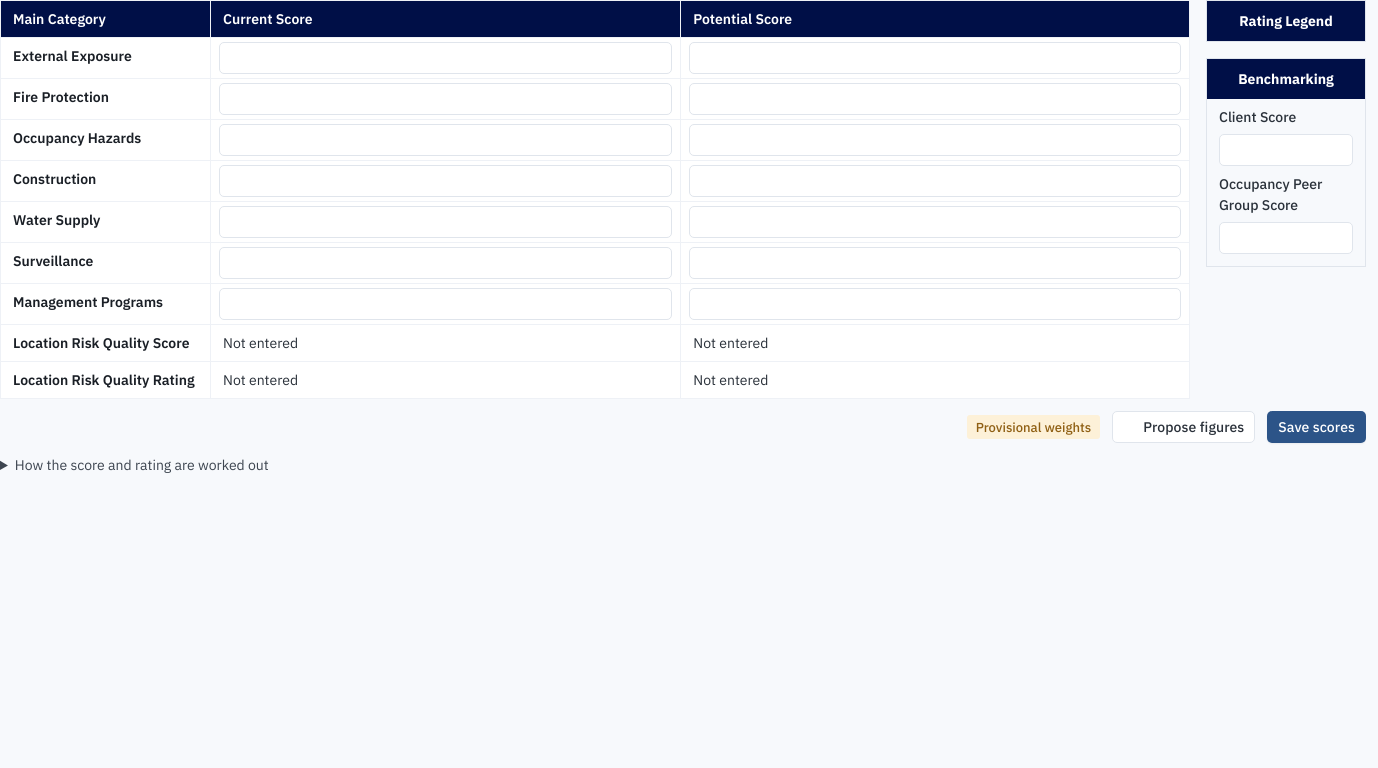
it: Section 4 proposed scores › proposes on request and pre-fills the scores as AI proposals, computing nothing (AC13)
Click the button "Propose figures": (1184, 427) [1112, 411, 1255, 443]
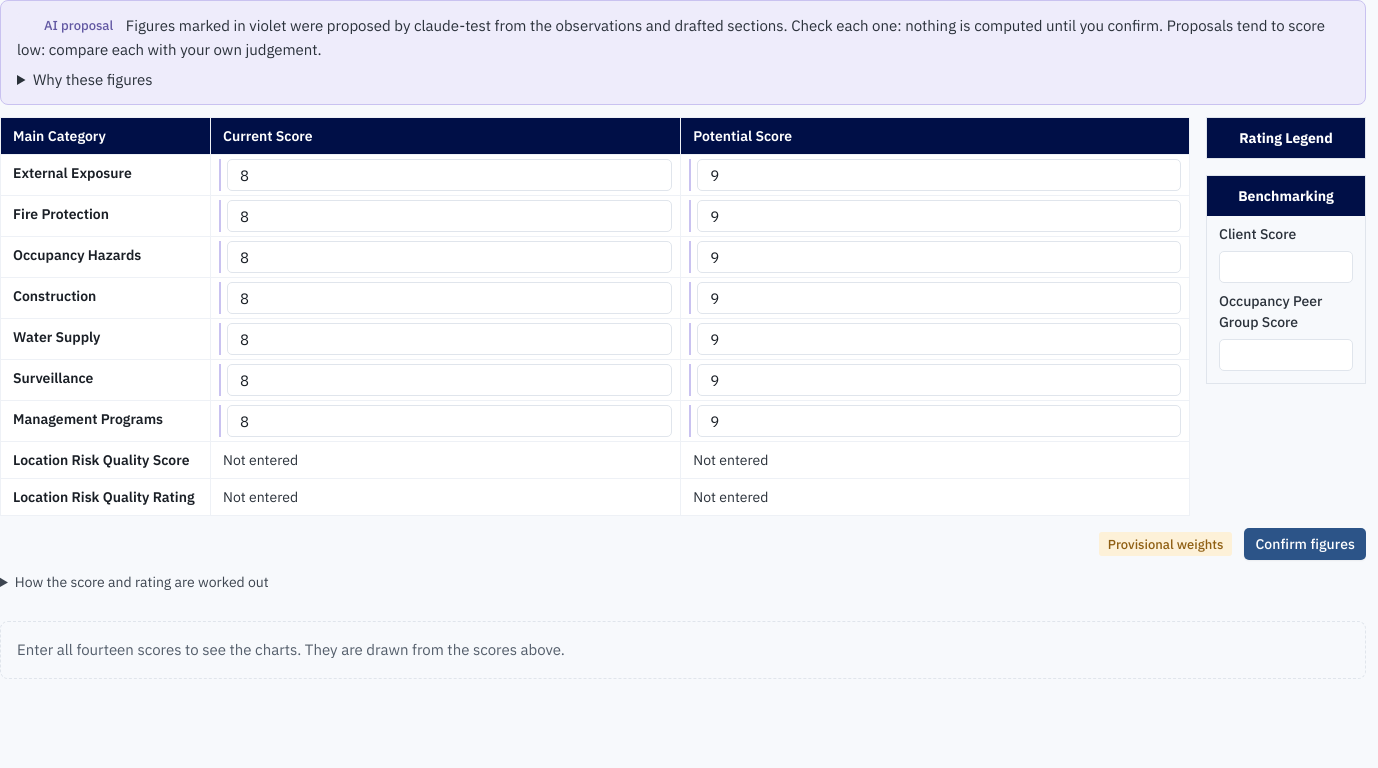
Expected: the number field named "Fire Protection current score" holds "8", [238, 206, 661, 226]
Expected: the text "proposed by claude-test" is shown, [17, 13, 1349, 62]
Expected: the button "Confirm figures" is shown, [1244, 528, 1366, 560]
